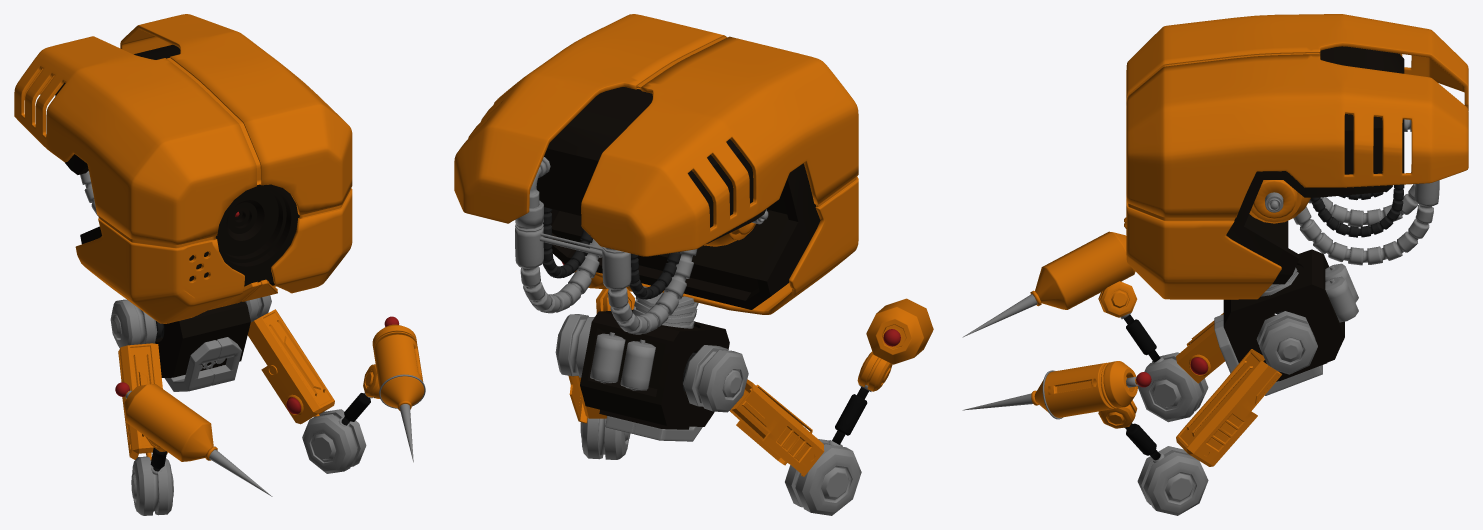
Rendered from Robot3DS.FBX.
The picture shows the model from 3 angles, left to right: view 1: azimuth 30°, elevation 25°; view 2: azimuth 150°, elevation 25°; view 3: azimuth 270°, elevation 25°; orthographic projection. The views are drawn at different scales.
Parts seen in each view (by area): view 1: Default; view 2: Default; view 3: Default.
Boxes of the visible parts, bbox=[...] form: Default: bbox=[14, 14, 425, 515]; Default: bbox=[454, 14, 933, 515]; Default: bbox=[962, 14, 1468, 515].
Size of the model in its own units: 1.22 by 1.54 by 1.74.
